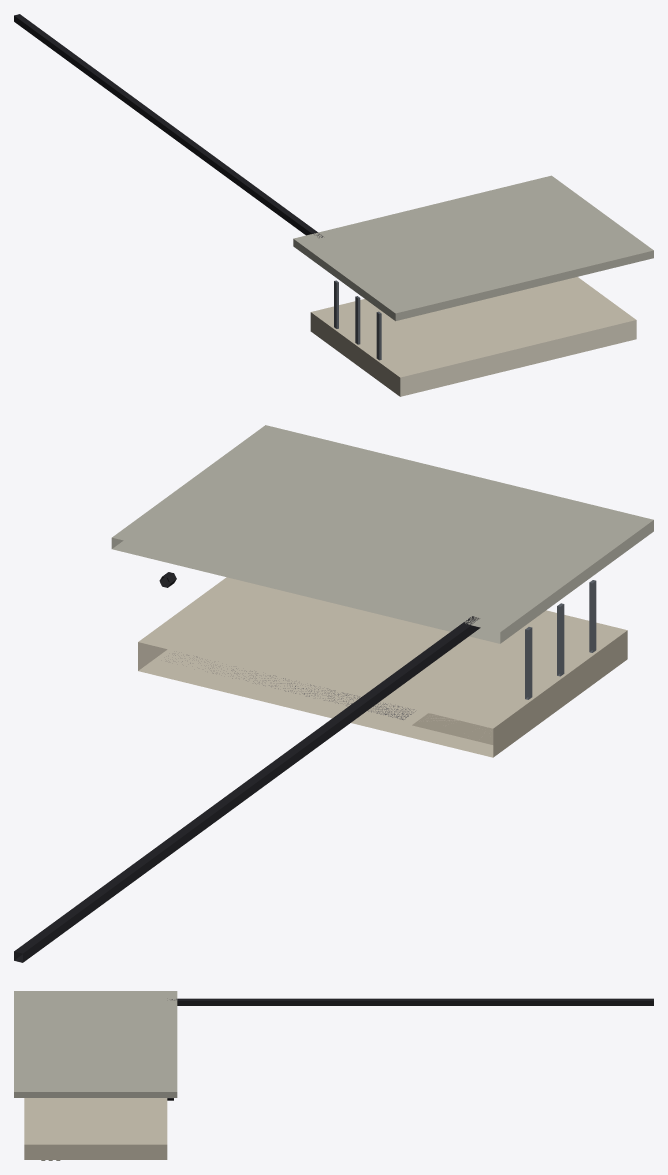
File: c_wac.obj
3 renders of one model, top to bottom at view 1: azimuth 30°, elevation 25°; view 2: azimuth 150°, elevation 25°; view 3: azimuth 270°, elevation 25°, orthographic. The views are drawn at different scales.
Size of the model in its own units: 0.7 by 0.269 by 1.88.
Materials: 1 (1 with a texture image).
